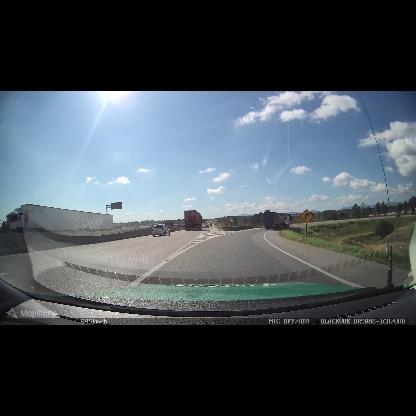O-MP: (225, 218, 228, 226)
R-19: (285, 219, 290, 224), (229, 219, 233, 223)
